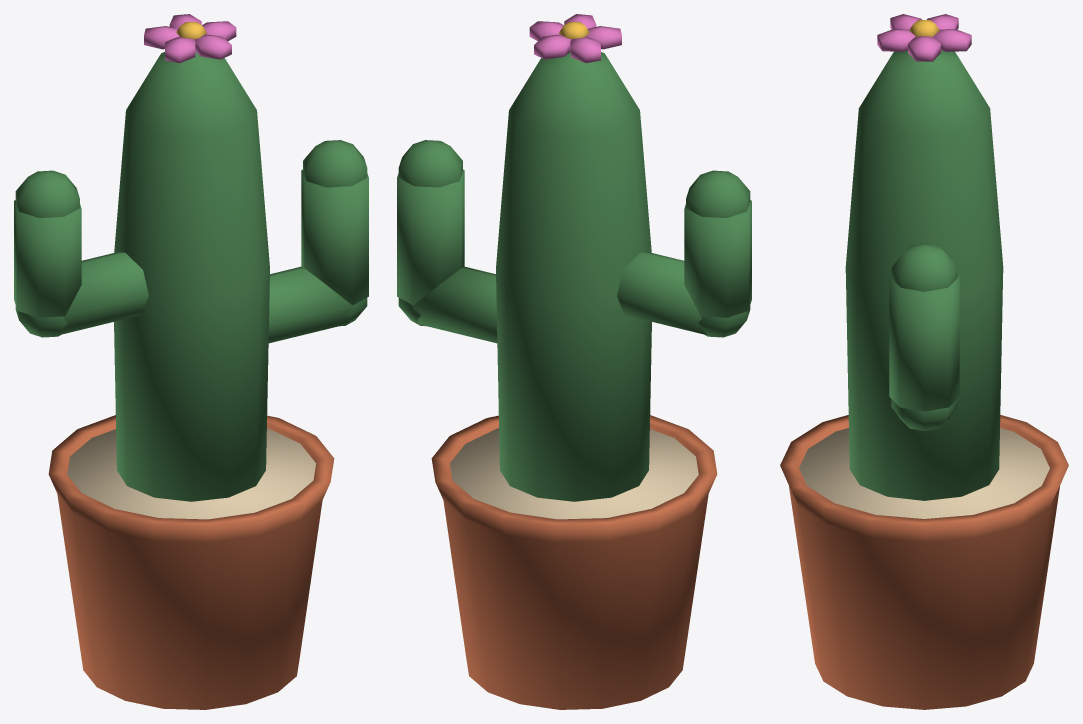
Rendered from potCactus.glb.
3 views of the same model, side by side, from view 1: azimuth 30°, elevation 25°; view 2: azimuth 150°, elevation 25°; view 3: azimuth 270°, elevation 25° (orthographic).
Parts seen in each view (by area): view 1: potCactus; view 2: potCactus; view 3: potCactus.
Boxes of the visible parts, box(x1,y1,x2,y2) form: potCactus: box(14, 14, 368, 709); potCactus: box(397, 14, 751, 709); potCactus: box(780, 14, 1068, 709).
Size of the model in its own units: 0.184 by 0.324 by 0.132.
